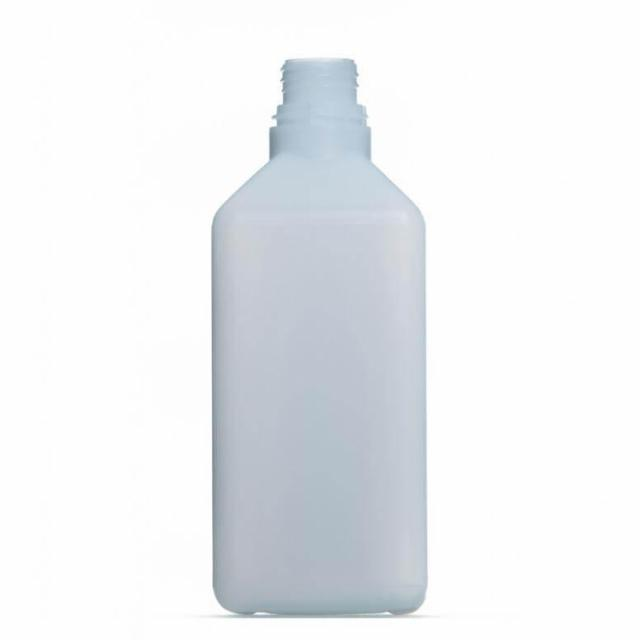plastic_bottle: (193, 37, 452, 631)
